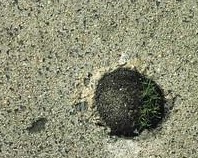Spalling: (94, 67, 165, 140)
